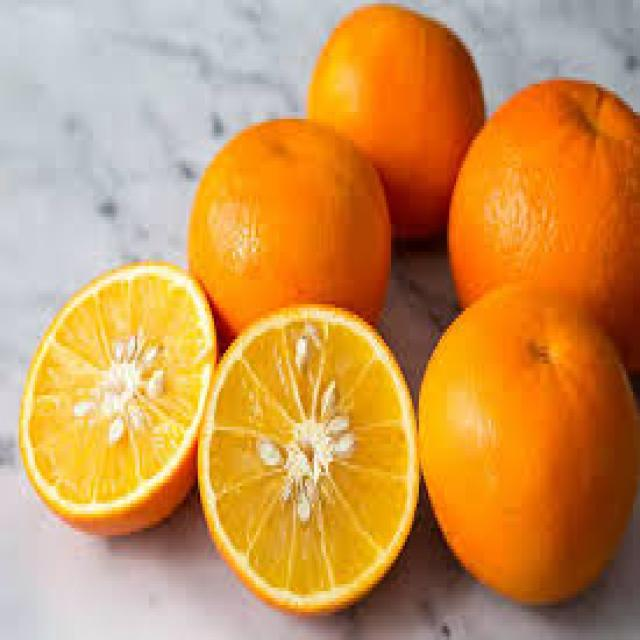orange: (417, 282, 639, 604), (449, 80, 640, 374), (188, 111, 394, 345), (308, 1, 484, 237)
